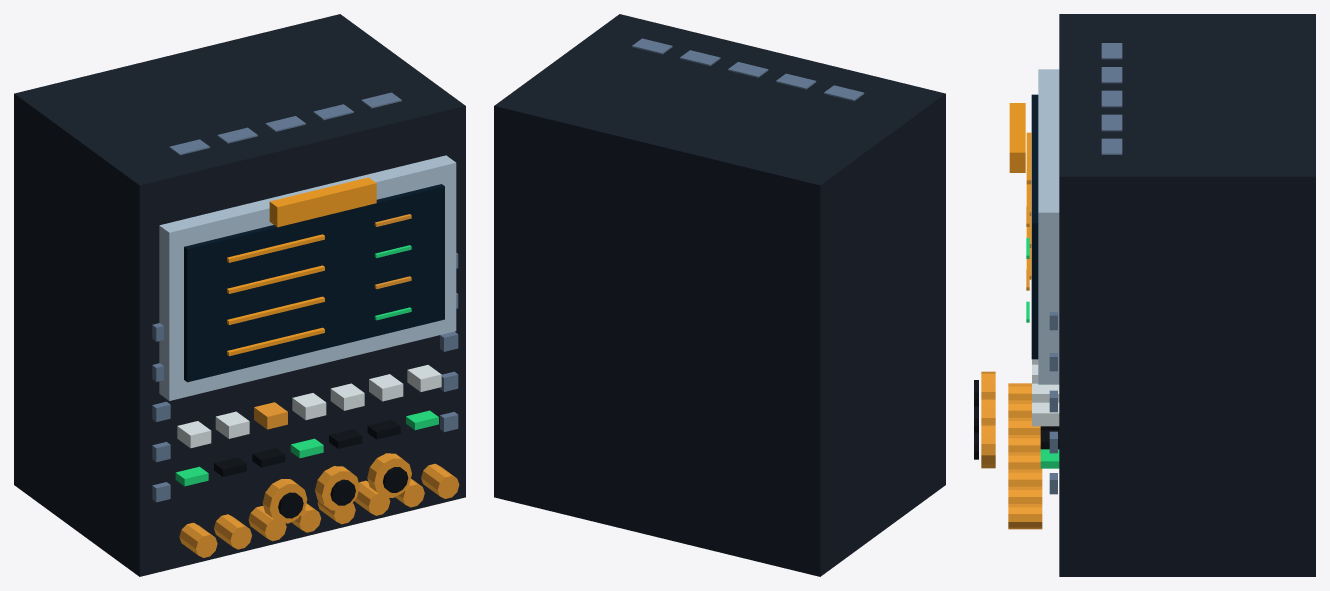
File: 38_L89_ShelterDoseLimitEvaluator.fbx
3 views of the same model, side by side, from view 1: azimuth 30°, elevation 25°; view 2: azimuth 150°, elevation 25°; view 3: azimuth 270°, elevation 25° (orthographic). The views are drawn at different scales.
Visible parts, largest first — view 1: L87_ShelterDoseLimitEvaluator_Part_0000, L87_ShelterDoseLimitEvaluator_Part_0002, L87_ShelterDoseLimitEvaluator_Part_0001, L87_ShelterDoseLimitEvaluator_Part_0004, L87_ShelterDoseLimitEvaluator_Part_0008, L87_ShelterDoseLimitEvaluator_Part_0006, L87_ShelterDoseLimitEvaluator_Part_0009, L87_ShelterDoseLimitEvaluator_Part_0003, L87_ShelterDoseLimitEvaluator_Part_0007, L87_ShelterDoseLimitEvaluator_Part_0005, L87_ShelterDoseLimitEvaluator_Part_0010, L87_ShelterDoseLimitEvaluator_Part_0012 (+1 smaller); view 2: L87_ShelterDoseLimitEvaluator_Part_0000, L87_ShelterDoseLimitEvaluator_Part_0008; view 3: L87_ShelterDoseLimitEvaluator_Part_0000, L87_ShelterDoseLimitEvaluator_Part_0001, L87_ShelterDoseLimitEvaluator_Part_0004, L87_ShelterDoseLimitEvaluator_Part_0008, L87_ShelterDoseLimitEvaluator_Part_0002, L87_ShelterDoseLimitEvaluator_Part_0006, L87_ShelterDoseLimitEvaluator_Part_0009, L87_ShelterDoseLimitEvaluator_Part_0003, L87_ShelterDoseLimitEvaluator_Part_0014, L87_ShelterDoseLimitEvaluator_Part_0005.
Boxes of the visible parts, bbox=[...] form: L87_ShelterDoseLimitEvaluator_Part_0000: bbox=[14, 14, 465, 576]; L87_ShelterDoseLimitEvaluator_Part_0002: bbox=[184, 184, 444, 382]; L87_ShelterDoseLimitEvaluator_Part_0001: bbox=[159, 155, 456, 400]; L87_ShelterDoseLimitEvaluator_Part_0004: bbox=[179, 214, 459, 557]; L87_ShelterDoseLimitEvaluator_Part_0008: bbox=[152, 92, 458, 502]; L87_ShelterDoseLimitEvaluator_Part_0006: bbox=[177, 365, 441, 448]; L87_ShelterDoseLimitEvaluator_Part_0009: bbox=[269, 177, 376, 227]; L87_ShelterDoseLimitEvaluator_Part_0003: bbox=[227, 234, 324, 356]; L87_ShelterDoseLimitEvaluator_Part_0007: bbox=[214, 420, 400, 476]; L87_ShelterDoseLimitEvaluator_Part_0005: bbox=[175, 245, 438, 486]; L87_ShelterDoseLimitEvaluator_Part_0010: bbox=[262, 479, 307, 523]; L87_ShelterDoseLimitEvaluator_Part_0012: bbox=[315, 466, 359, 510]; L87_ShelterDoseLimitEvaluator_Part_0000: bbox=[494, 14, 945, 576]; L87_ShelterDoseLimitEvaluator_Part_0008: bbox=[632, 38, 864, 101]; L87_ShelterDoseLimitEvaluator_Part_0000: bbox=[1059, 14, 1315, 576]; L87_ShelterDoseLimitEvaluator_Part_0001: bbox=[1038, 69, 1059, 384]; L87_ShelterDoseLimitEvaluator_Part_0004: bbox=[1008, 206, 1042, 529]; L87_ShelterDoseLimitEvaluator_Part_0008: bbox=[1049, 43, 1122, 494]; L87_ShelterDoseLimitEvaluator_Part_0002: bbox=[1031, 94, 1038, 359]; L87_ShelterDoseLimitEvaluator_Part_0006: bbox=[1032, 359, 1059, 426]; L87_ShelterDoseLimitEvaluator_Part_0009: bbox=[1009, 103, 1025, 172]; L87_ShelterDoseLimitEvaluator_Part_0003: bbox=[1026, 132, 1031, 279]; L87_ShelterDoseLimitEvaluator_Part_0014: bbox=[981, 423, 995, 468]; L87_ShelterDoseLimitEvaluator_Part_0005: bbox=[1026, 238, 1059, 468].
Size of the model in its own units: 112 by 129 by 99.6.
